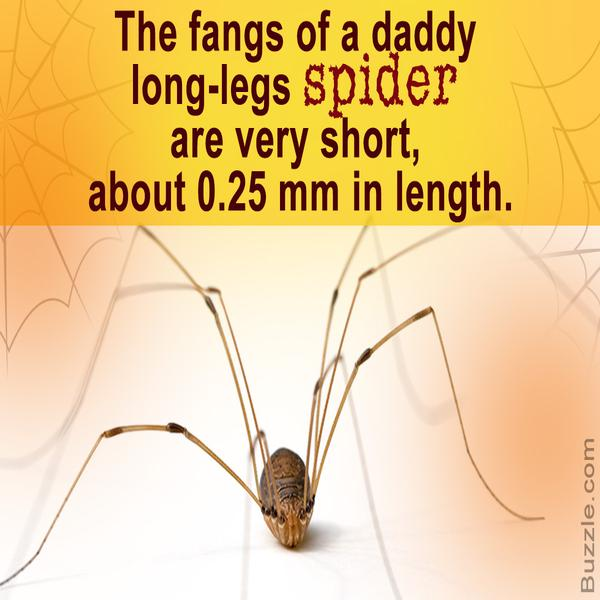Daddy Long Legs Spider: (11, 225, 555, 556)
